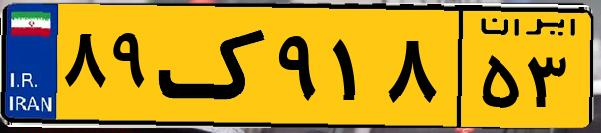1: (330, 28, 385, 110)
3: (525, 38, 570, 115)
5: (475, 38, 525, 113)
8: (385, 28, 445, 110), (57, 26, 110, 100)
9: (270, 28, 330, 110), (110, 28, 158, 98)
ک: (158, 12, 270, 120)
